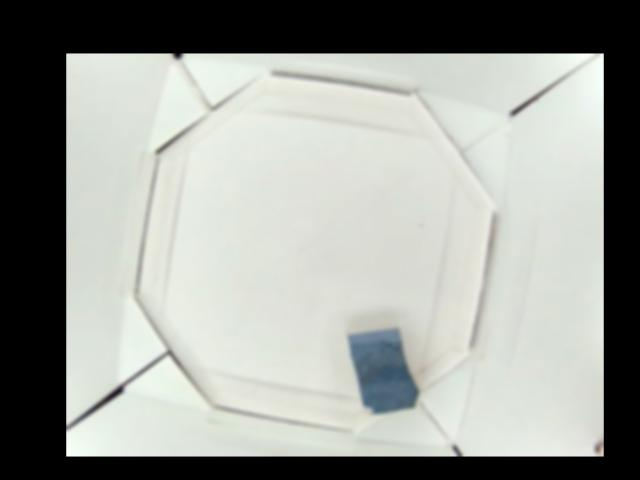China: (345, 325, 420, 412)
